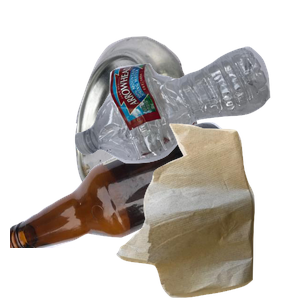glass: (10, 120, 247, 300)
metal: (73, 34, 285, 214)
plastic: (72, 44, 300, 200)
trash: (114, 121, 300, 300)
